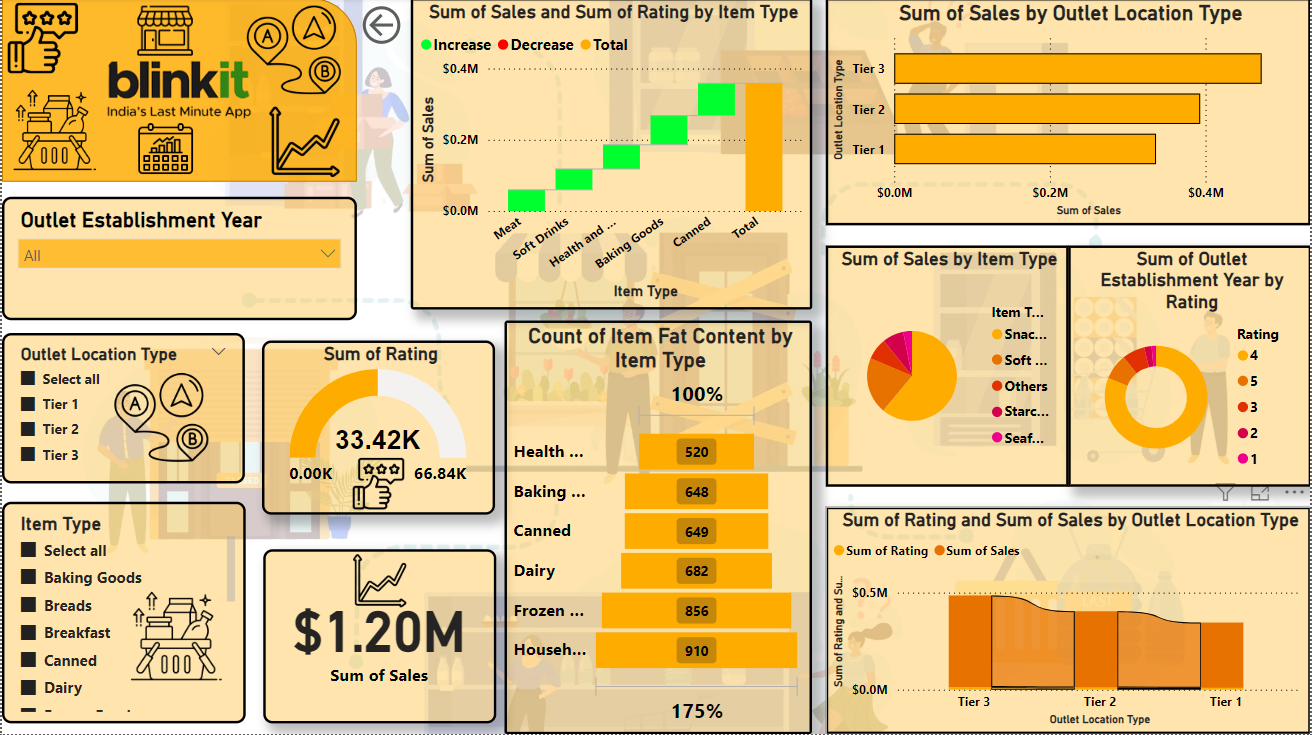

What the dashboard file says about the page in this screenshot:
{"tool":"powerbi","page":{"name":"Page 1","canvas":[1280,720],"ordinal":0},"visuals":[{"type":"clusteredBarChart","fields":{"Category":["BlinkIT Grocery Data.Outlet Location Type"],"Y":["Sum(BlinkIT Grocery Data.Sales)"]},"box":[805.8,0,474.5,222.6],"z":0},{"type":"gauge","fields":{"Y":["Sum(BlinkIT Grocery Data.Rating)"]},"box":[253.9,334.8,227.8,170.2],"z":1000},{"type":"card","fields":{"Values":["Sum(BlinkIT Grocery Data.Sales)"]},"box":[255.2,539.3,227.8,170.2],"z":2000},{"type":"ribbonChart","fields":{"Category":["BlinkIT Grocery Data.Outlet Location Type"],"Y":["Sum(BlinkIT Grocery Data.Rating)","Sum(BlinkIT Grocery Data.Sales)"]},"box":[805.8,497.7,474.5,222.6],"z":3000},{"type":"pieChart","fields":{"Category":["BlinkIT Grocery Data.Item Type"],"Y":["Sum(BlinkIT Grocery Data.Sales)"]},"box":[805.5,241.5,237.4,236],"z":4000},{"type":"donutChart","fields":{"Y":["Sum(BlinkIT Grocery Data.Outlet Establishment Year)"],"Category":["BlinkIT Grocery Data.Rating"]},"box":[1042.9,241.5,237.4,236],"z":5000},{"type":"funnel","fields":{"Category":["BlinkIT Grocery Data.Item Type"],"Y":["CountNonNull(BlinkIT Grocery Data.Item Fat Content)"]},"box":[491.3,315.6,300.5,404.8],"z":6000},{"type":"waterfallChart","fields":{"Category":["BlinkIT Grocery Data.Item Type"],"Y":["Sum(BlinkIT Grocery Data.Sales)"]},"box":[399.3,0,392.5,304.6],"z":7000},{"type":"slicer","fields":{"Values":["BlinkIT Grocery Data.Outlet Establishment Year"]},"box":[0,194.9,347.2,120.8],"z":8000},{"type":"slicer","fields":{"Values":["BlinkIT Grocery Data.Outlet Location Type"]},"box":[0,328,237.4,146.8],"z":9000},{"type":"slicer","fields":{"Values":["BlinkIT Grocery Data.Item Type"]},"box":[0,492.6,238.8,216.8],"z":10000},{"type":"actionButton","box":[347.2,2.7,59,48],"z":11000},{"type":"shape","box":[0,0,347.2,179.8],"z":12000},{"type":"image","box":[0,0,347.2,179.8],"z":13000},{"type":"image","box":[338.9,539.3,61.7,61.7],"z":14000},{"type":"image","box":[102.9,359.5,105.7,101.5],"z":15000},{"type":"image","box":[112.5,568.1,115.3,111.1],"z":16000},{"type":"image","box":[337.6,444.6,61.7,60.4],"z":18000},{"type":"image","box":[0,0,79.6,78.2],"z":19000},{"type":"image","box":[231.9,0,105.7,101.5],"z":20000},{"type":"image","box":[0,78.2,102.9,101.5],"z":21000},{"type":"image","box":[253.9,101.5,83.7,78.2],"z":22000},{"type":"image","box":[112.5,116.6,94.7,63.1],"z":23000},{"type":"image","box":[126.2,0,67.2,64.5],"z":24000}]}

Visuals, with their boxes in screenshot pixels (x1, y1, x2, y2), scaled from the page's 1280x720 canvas onto the 1312x735 screenshot:
clusteredBarChart - BlinkIT Grocery Data.Outlet Location Type x Sum(BlinkIT Grocery Data.Sales): region(826, 0, 1311, 227)
gauge - Sum(BlinkIT Grocery Data.Rating): region(260, 342, 494, 516)
card - Sum(BlinkIT Grocery Data.Sales): region(262, 551, 495, 724)
ribbonChart - BlinkIT Grocery Data.Outlet Location Type x Sum(BlinkIT Grocery Data.Rating): region(826, 508, 1311, 734)
pieChart - BlinkIT Grocery Data.Item Type x Sum(BlinkIT Grocery Data.Sales): region(826, 247, 1069, 487)
donutChart - Sum(BlinkIT Grocery Data.Outlet Establishment Year) x BlinkIT Grocery Data.Rating: region(1069, 247, 1311, 487)
funnel - BlinkIT Grocery Data.Item Type x CountNonNull(BlinkIT Grocery Data.Item Fat Content): region(504, 322, 812, 734)
waterfallChart - BlinkIT Grocery Data.Item Type x Sum(BlinkIT Grocery Data.Sales): region(409, 0, 812, 311)
slicer - BlinkIT Grocery Data.Outlet Establishment Year: region(0, 199, 356, 322)
slicer - BlinkIT Grocery Data.Outlet Location Type: region(0, 335, 243, 485)
slicer - BlinkIT Grocery Data.Item Type: region(0, 503, 245, 724)
actionButton: region(356, 3, 416, 52)
shape: region(0, 0, 356, 184)
image: region(0, 0, 356, 184)
image: region(347, 551, 411, 614)
image: region(105, 367, 214, 471)
image: region(115, 580, 233, 693)
image: region(346, 454, 409, 516)
image: region(0, 0, 82, 80)
image: region(238, 0, 346, 104)
image: region(0, 80, 105, 183)
image: region(260, 104, 346, 183)
image: region(115, 119, 212, 183)
image: region(129, 0, 198, 66)
